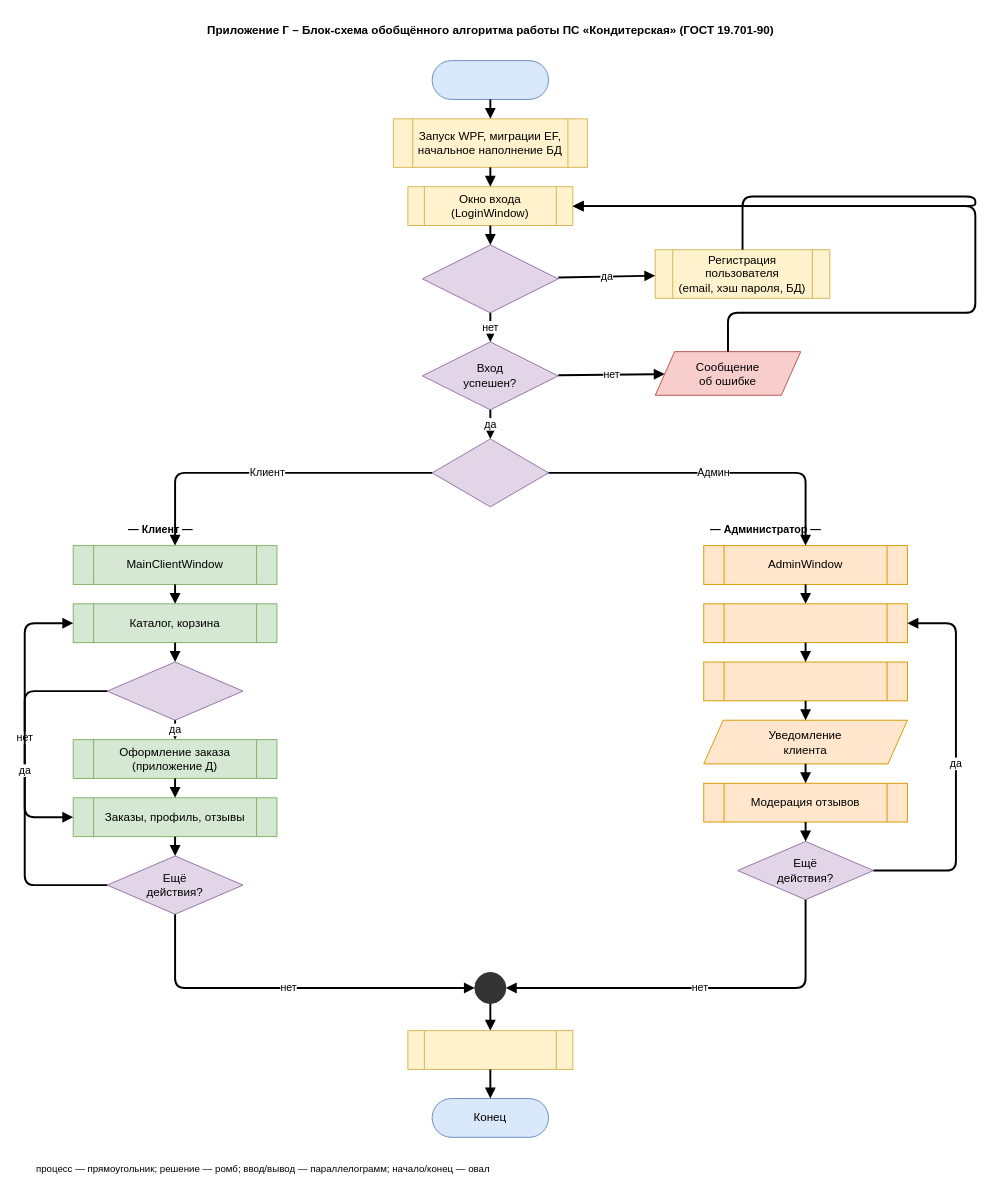
Image size: 1001x1202. Some labels were removed from this diagram. The centre of each missing label's shape, as x and y in pixels:
Заказы, смена статуса: the point at 805,681
Закрытие приложения: the point at 490,1049
Начало: the point at 490,79
Оформить заказ?: the point at 174,690
Регистрация?: the point at 489,278
Роль?: the point at 490,472
Товары и категории: the point at 805,623
